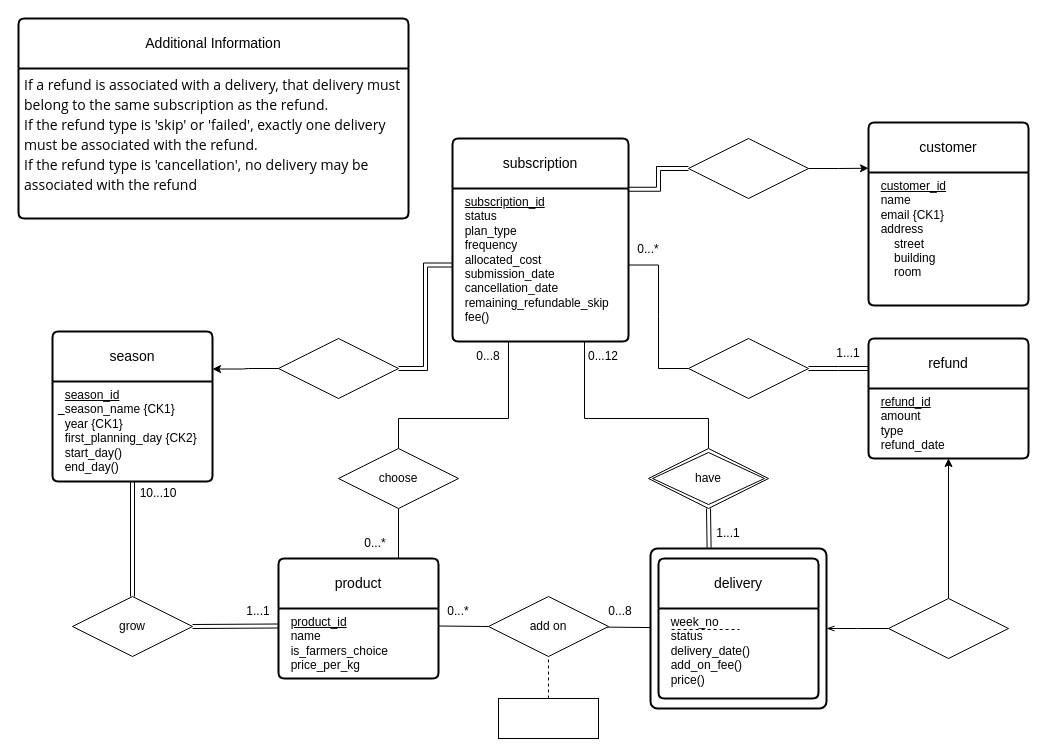
Some shapes in this 1046 by 756 pixel diagram are drawn without their labels. Each missing label, with the centre of its shape:
"belong to" goes at (748,168).
"compensate" goes at (948,628).
"refunded via" goes at (748,368).
"schedule" goes at (338,368).
"weight" goes at (548,718).
